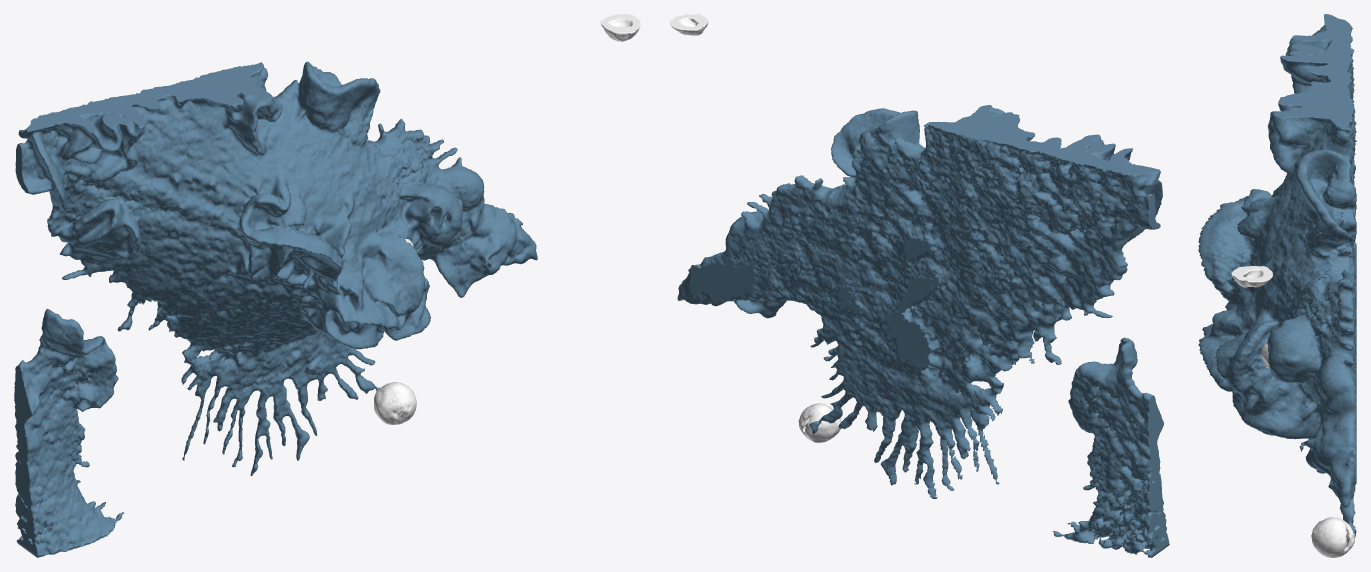
3 views of the same model, side by side, from view 1: azimuth 30°, elevation 25°; view 2: azimuth 150°, elevation 25°; view 3: azimuth 270°, elevation 25° (orthographic). The views are drawn at different scales.
Parts seen in each view (by area): view 1: surface (×2); view 2: surface (×2); view 3: surface (×2).
Part boxes in pixels (x1,y1,x2,y2): surface (×2): (14, 14, 640, 557); surface (×2): (669, 14, 1169, 557); surface (×2): (1198, 14, 1356, 557).
Bounding box in the file's own units: 624 × 436 × 156.
